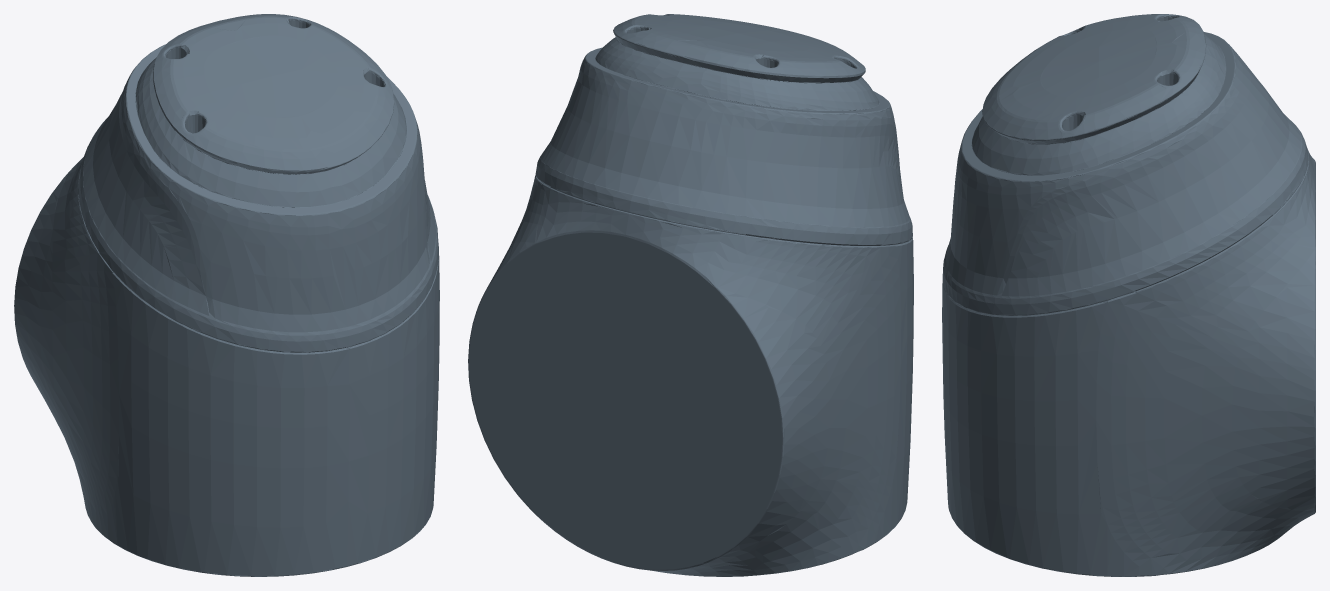
The picture shows the model from 3 angles, left to right: view 1: azimuth 30°, elevation 25°; view 2: azimuth 150°, elevation 25°; view 3: azimuth 270°, elevation 25°; orthographic projection. The views are drawn at different scales.
Parts seen in each view (by area): view 1: A0509_1_1; view 2: A0509_1_1; view 3: A0509_1_1.
Part boxes in pixels (x1,y1,x2,y2): A0509_1_1: (14, 14, 439, 576); A0509_1_1: (468, 14, 913, 576); A0509_1_1: (942, 14, 1315, 576).
Size of the model in its own units: 122 by 125 by 170.
